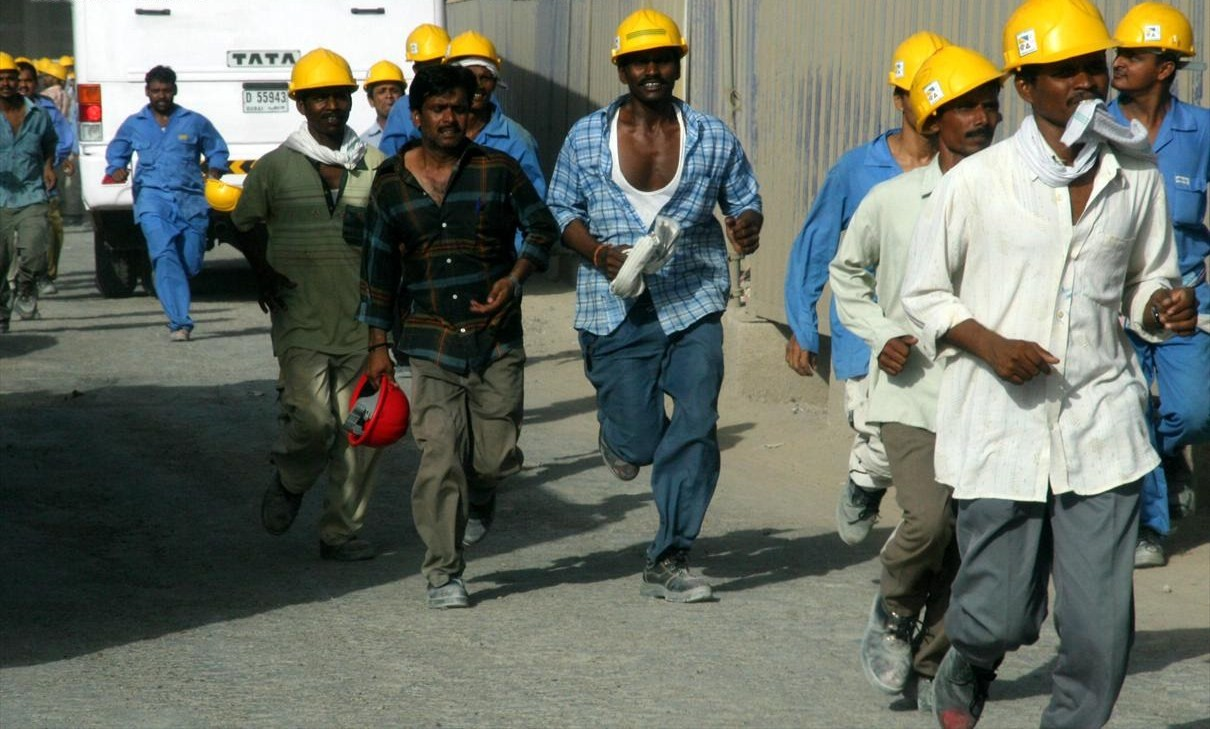person: (899, 2, 1200, 729), (547, 6, 769, 605), (826, 47, 1013, 712), (362, 67, 564, 607), (782, 29, 957, 545), (231, 50, 392, 562), (1098, 1, 1210, 568), (103, 64, 236, 345), (444, 33, 547, 258), (1, 57, 58, 331), (382, 27, 448, 154), (357, 61, 410, 150)
